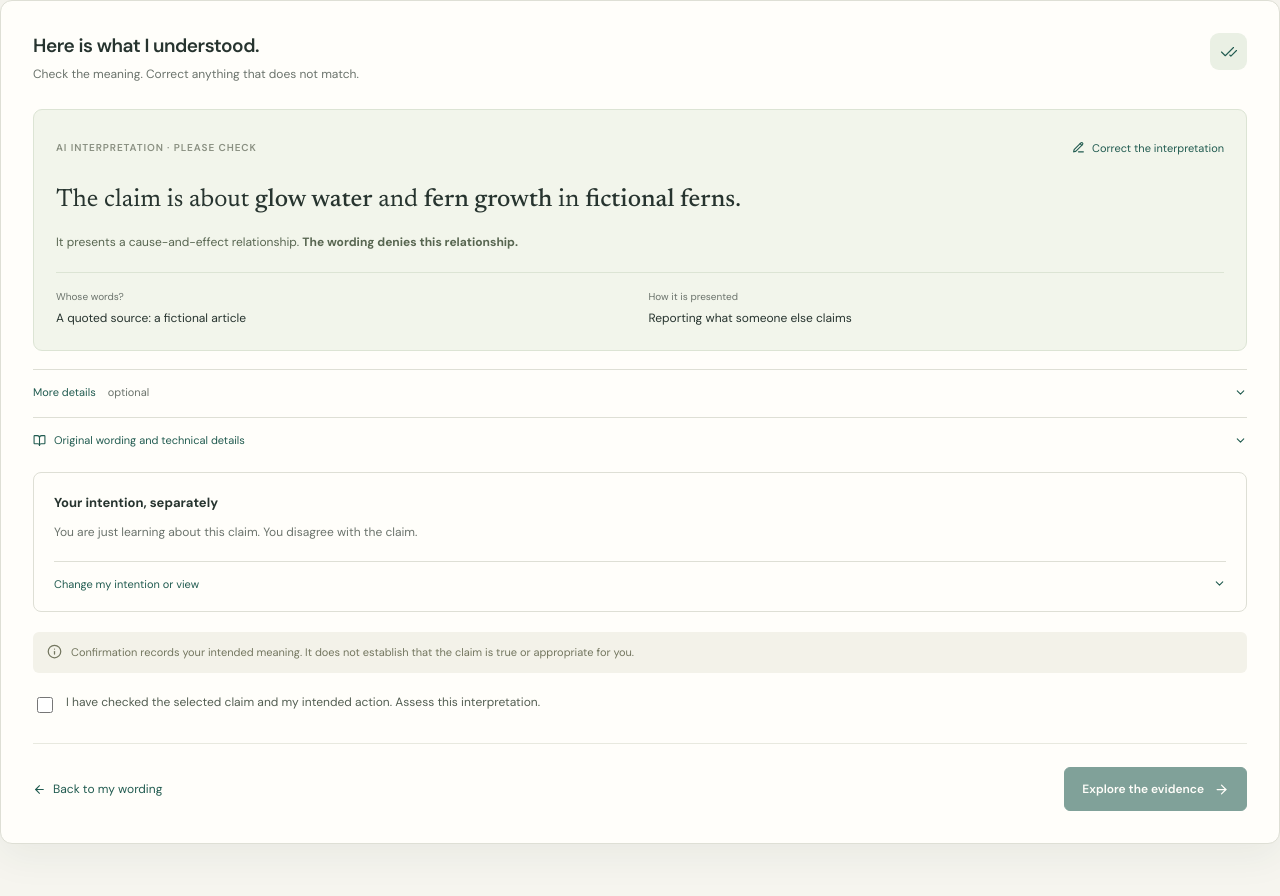
Test: Readable interpretation and honest manual fallback › shows a complete AI interpretation without technical inputs, preserves source and negation, and still requires confirmation
The image size is (1280, 896).
Expected: the heading "Here is what I understood." is shown, [33,33,259,58]
Expected: the text "The wording denies this relationship." is shown, [302,234,518,250]
Click the checkbox: (45, 705) [37,697,53,713]
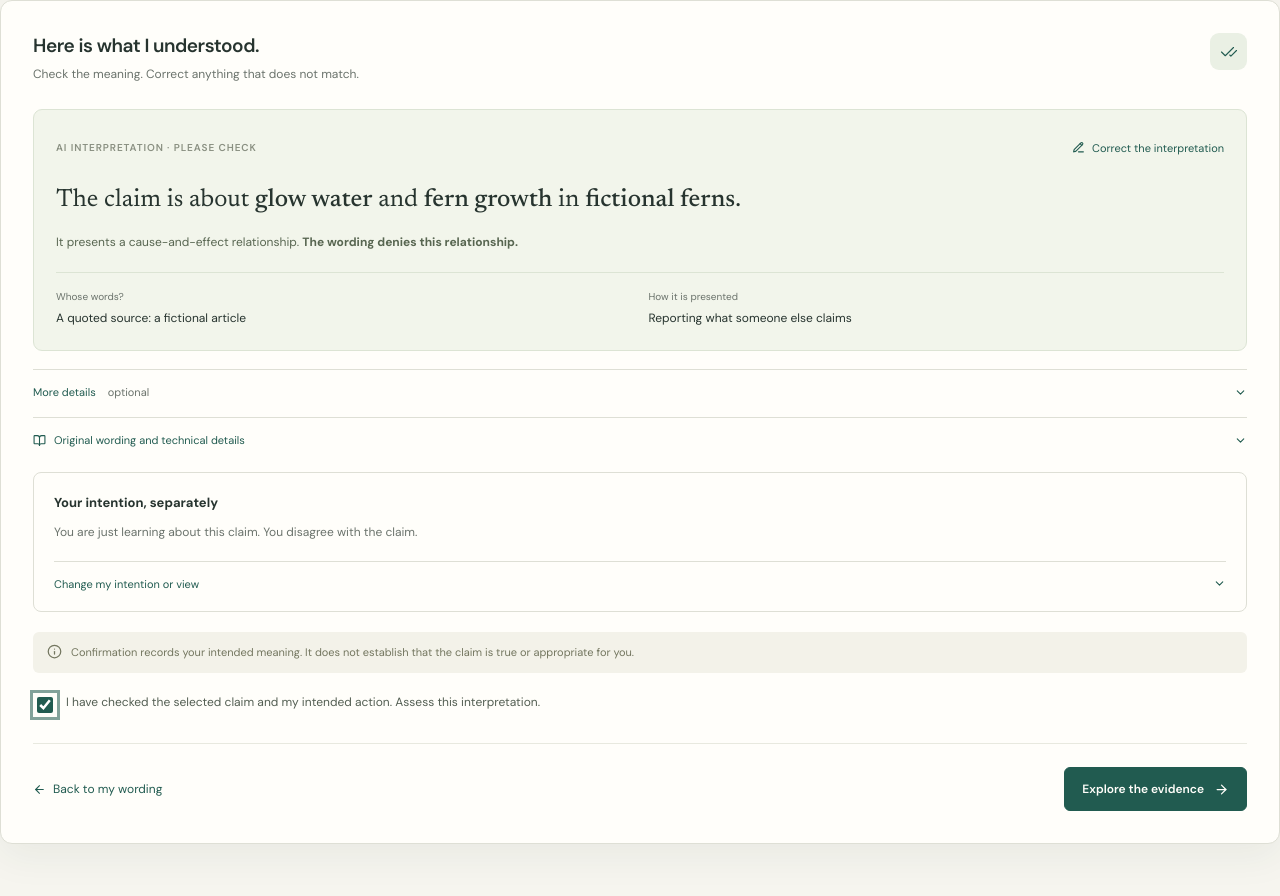
Expected: the button "Explore the evidence" is enabled, [1064,767,1247,811]
Click the button "Correct the interpretation": (1148, 148) [1072,132,1224,164]
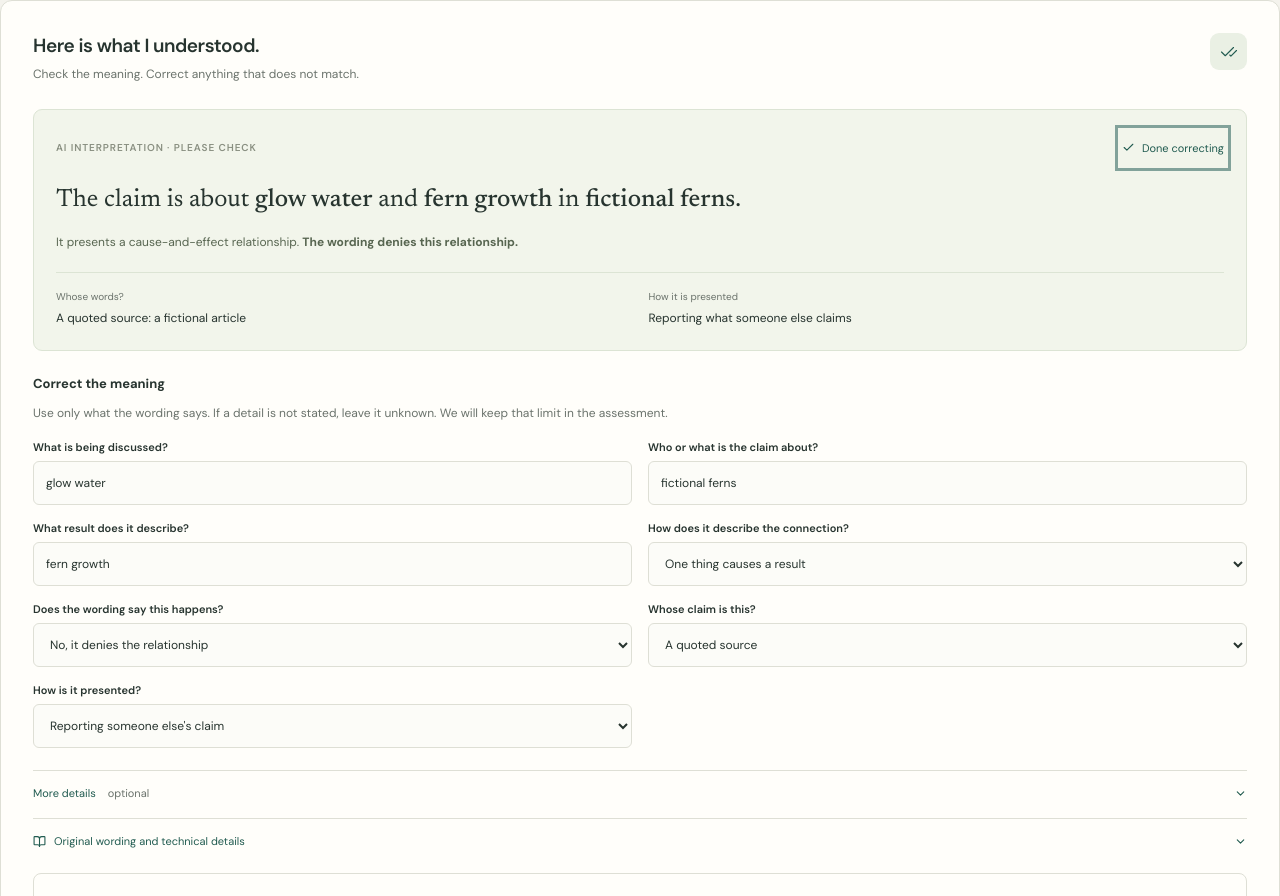
Select "Yes, it says the relationship happens" in the dropdown labelled "Does the wording say this happens?": (332, 645) [33,623,632,667]
(page scrolled)
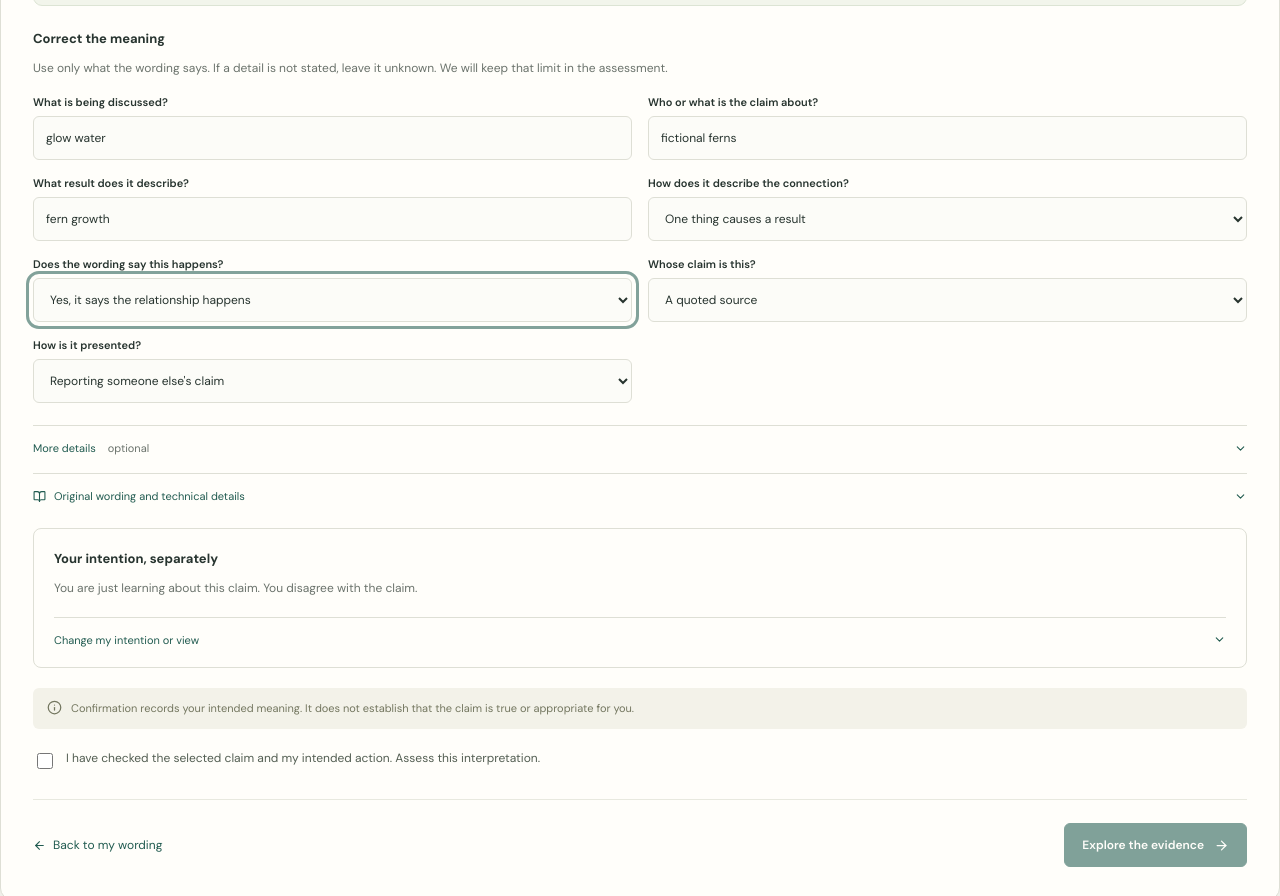
Expected: the button "Explore the evidence" is disabled, [1064,823,1247,867]
